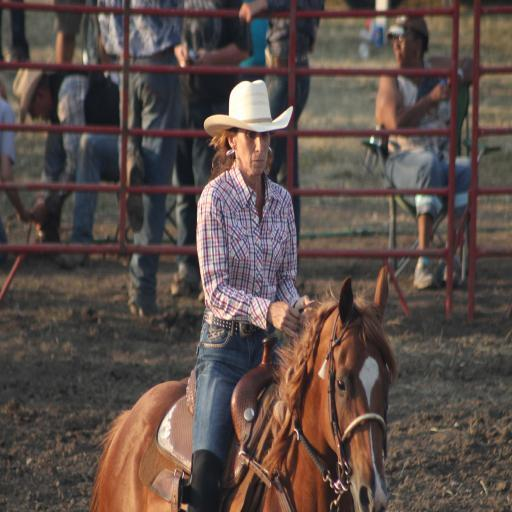horse: (88, 264, 399, 512)
